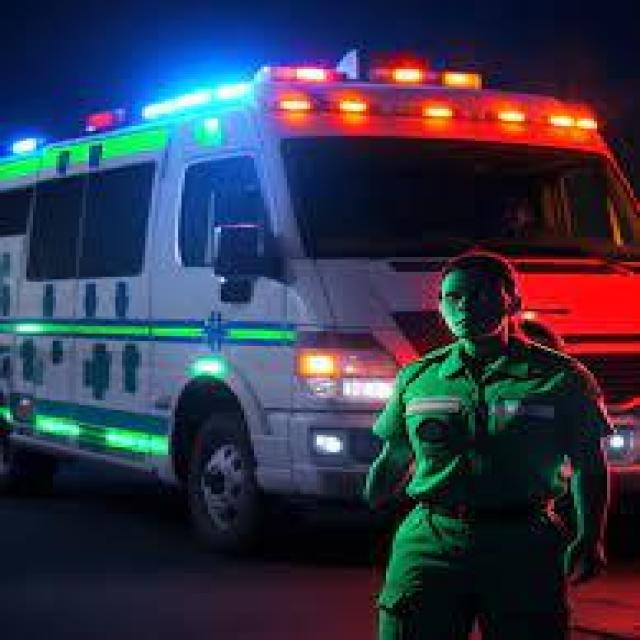ambulance: (0, 0, 640, 250)
